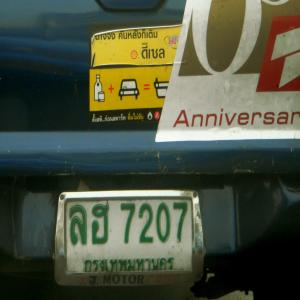Vehicle-registration-plate: (55, 190, 207, 291)
